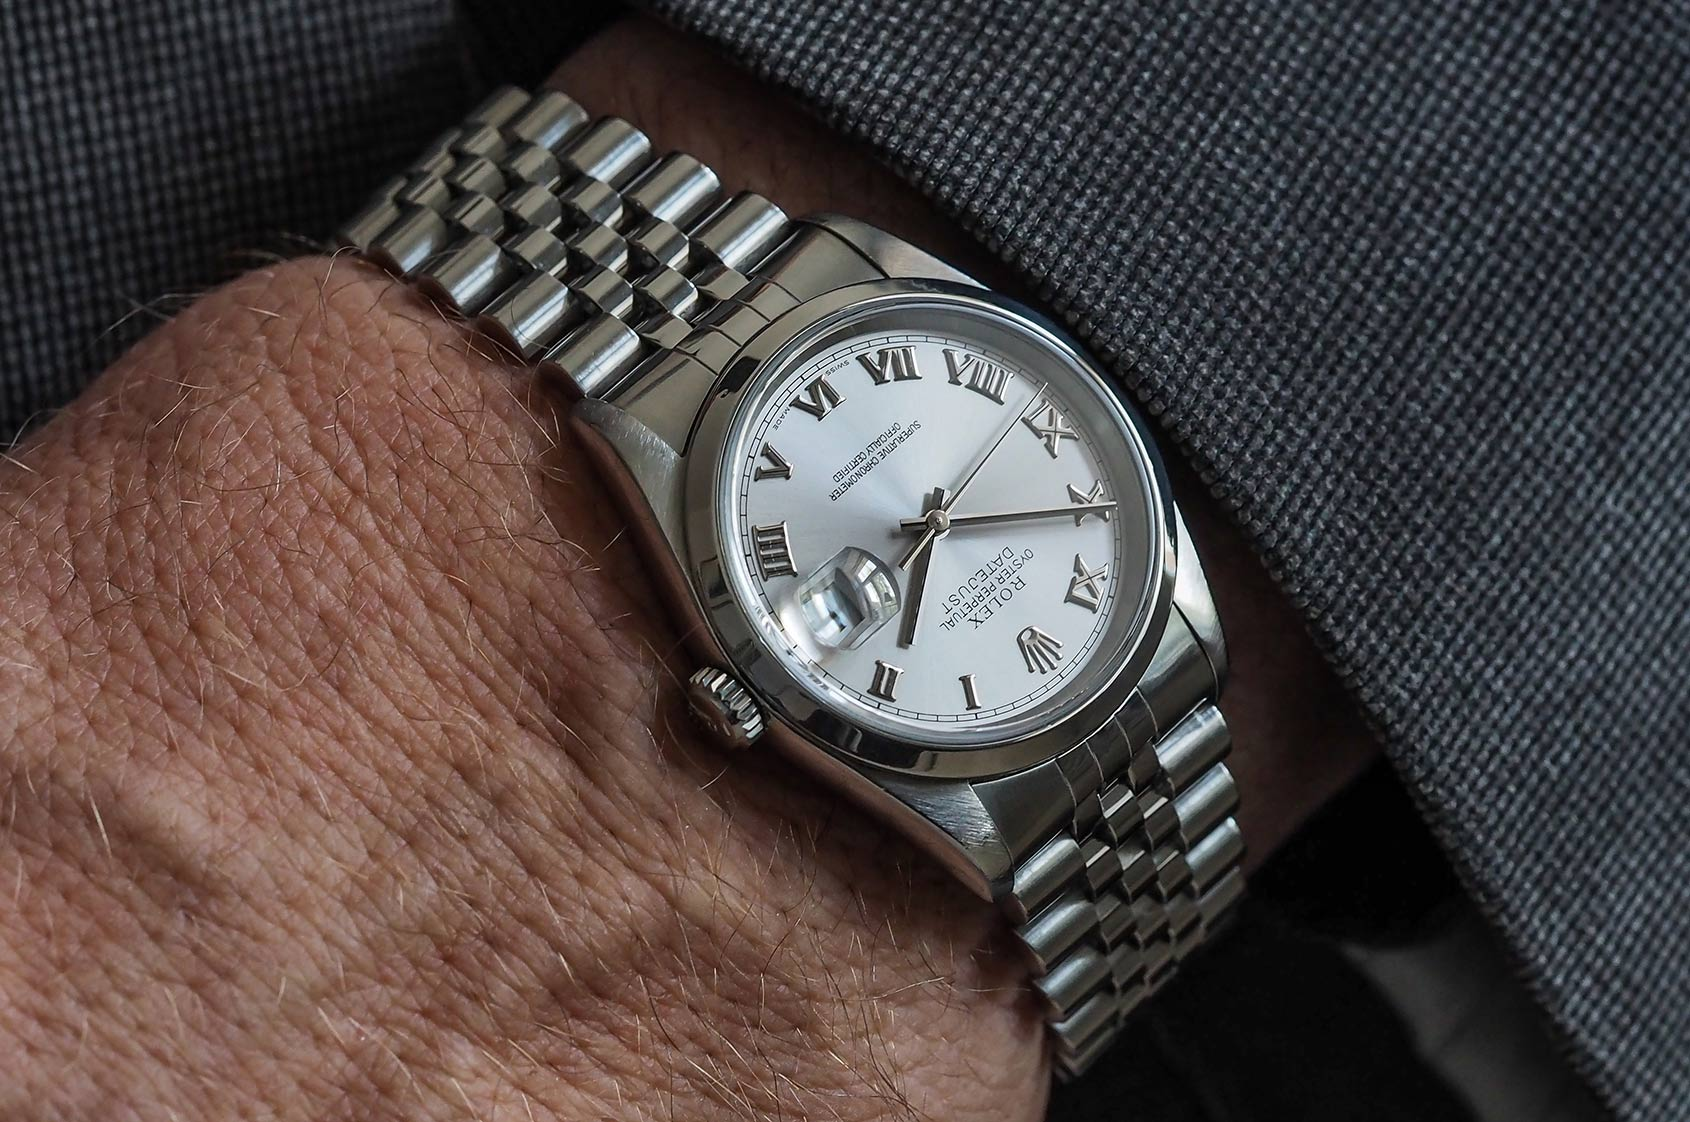clock: (737, 328, 1137, 735)
